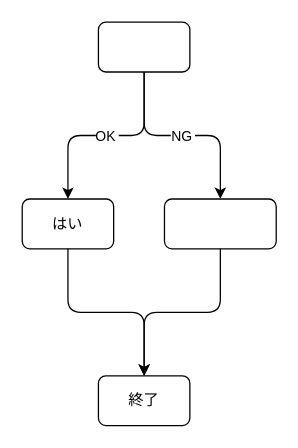
This 298x448 diagram has some shape labels left out. The centre of each missing label's shape, as x and y in pixels:
"いいえ" goes at point (219, 223).
"開始" goes at point (143, 46).
